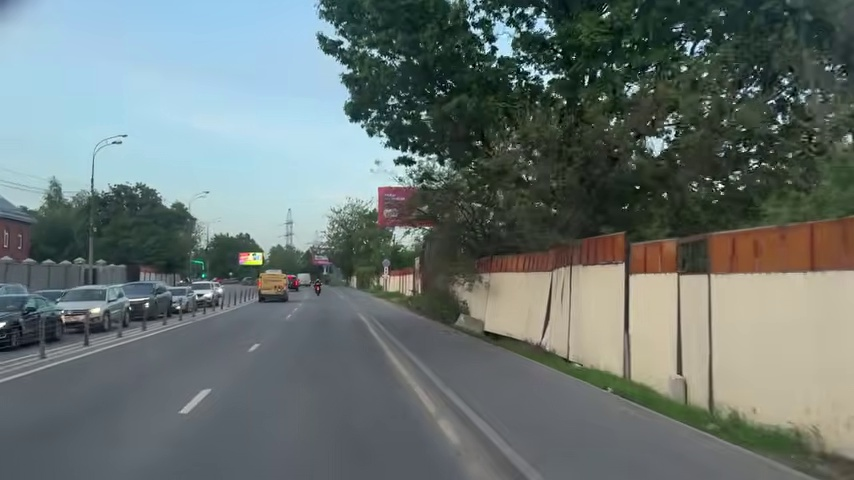apagada: (108, 132, 129, 149)
